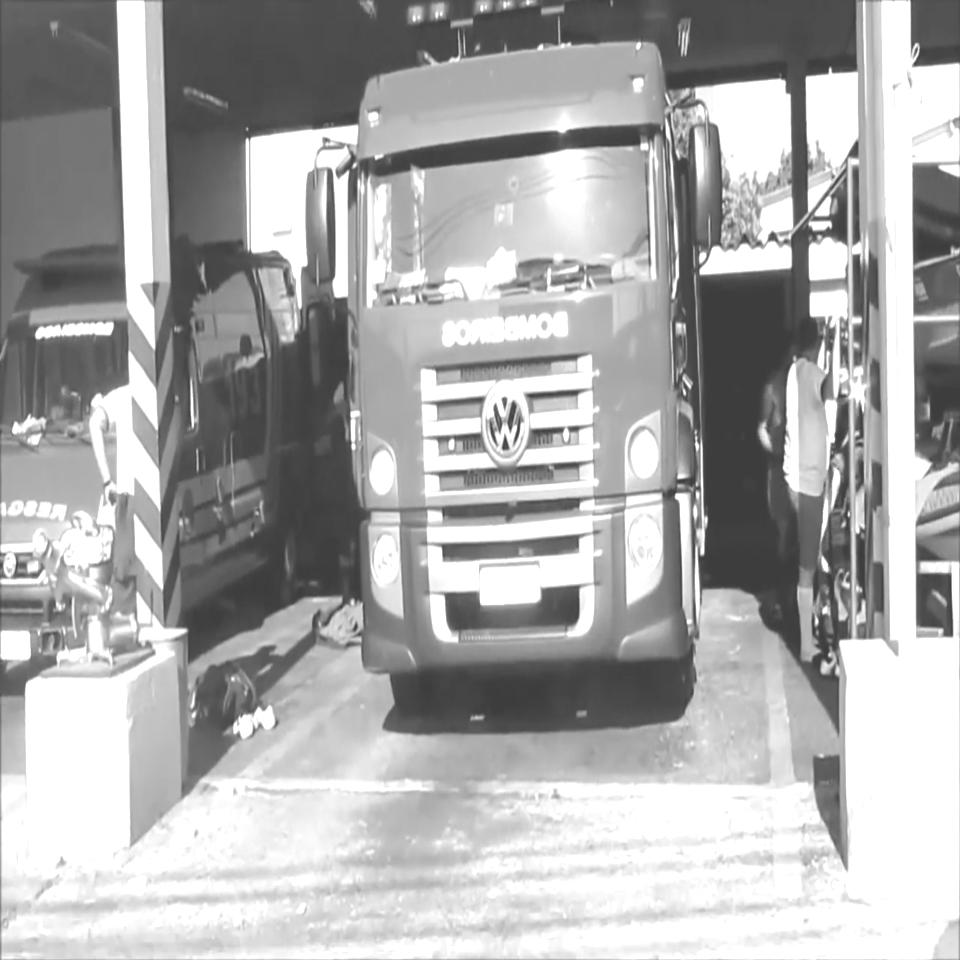bombeiro: (304, 0, 723, 724)
